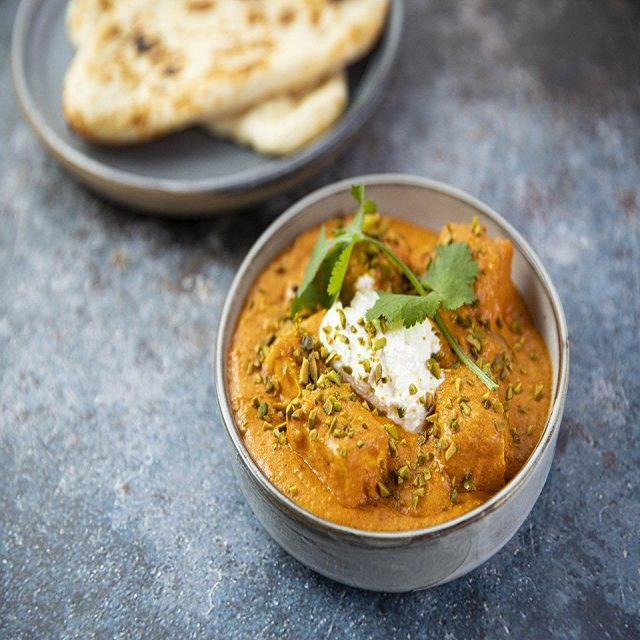roti: (75, 0, 356, 86)
